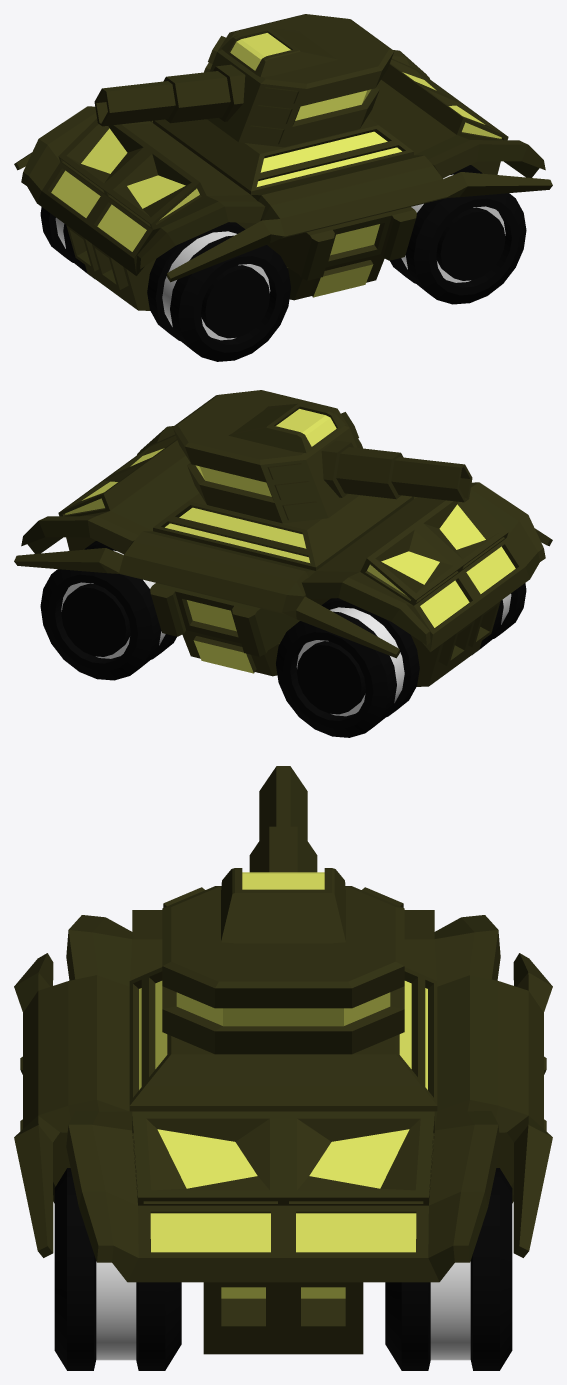
The model's file is SimpleTank.fbx.
3 views of the same model, one above another, from view 1: azimuth 30°, elevation 25°; view 2: azimuth 150°, elevation 25°; view 3: azimuth 270°, elevation 25° (orthographic). The views are drawn at different scales.
Visible parts, largest first — view 1: BaseCannon, Wheeels, Cannon, Car Base; view 2: BaseCannon, Wheeels, Cannon, Car Base; view 3: BaseCannon, Cannon, Wheeels, Car Base.
Boxes of the visible parts, left/top/right/bottom form: BaseCannon: left=14, top=50, right=552, bottom=282; Wheeels: left=40, top=165, right=526, bottom=361; Cannon: left=94, top=14, right=394, bottom=147; Car Base: left=66, top=161, right=500, bottom=310; BaseCannon: left=14, top=426, right=552, bottom=658; Wheeels: left=40, top=541, right=526, bottom=737; Cannon: left=172, top=390, right=472, bottom=523; Car Base: left=66, top=537, right=500, bottom=686; BaseCannon: left=14, top=910, right=552, bottom=1282; Cannon: left=162, top=766, right=404, bottom=1054; Wheeels: left=54, top=1168, right=512, bottom=1370; Car Base: left=20, top=1056, right=546, bottom=1354.
Size of the model in its own units: 922 by 526 by 676.
